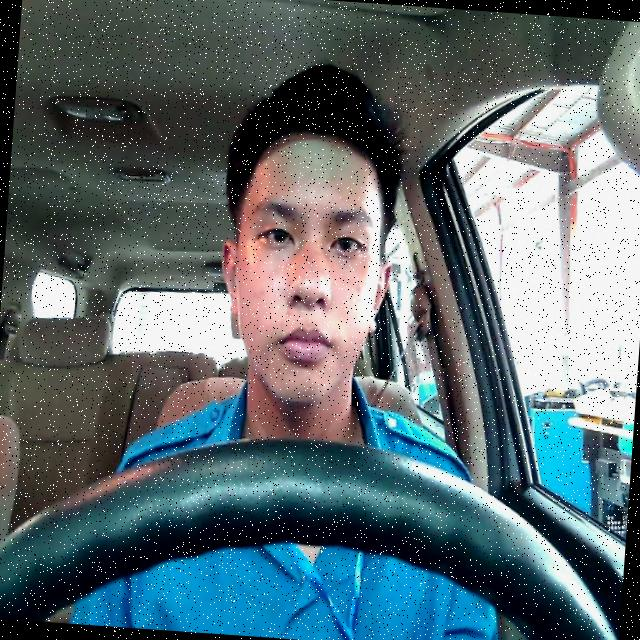focused: (210, 126, 400, 412)
